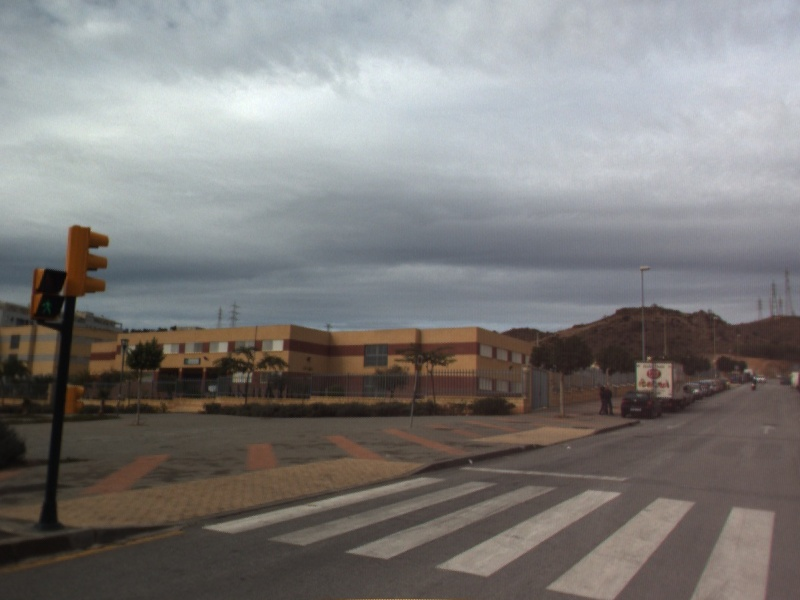STRAIGHT: (758, 422, 779, 436)
